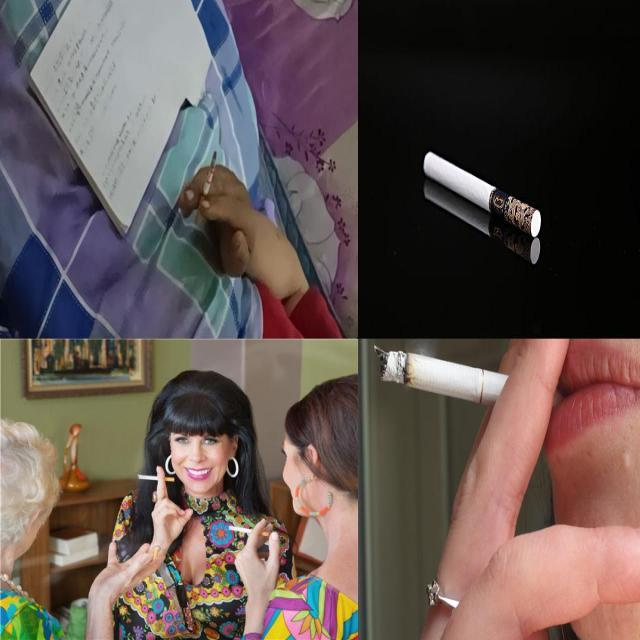smoke: (372, 345, 563, 415), (422, 151, 542, 237), (424, 178, 540, 266), (195, 151, 217, 229), (228, 524, 272, 538), (136, 474, 176, 482)
